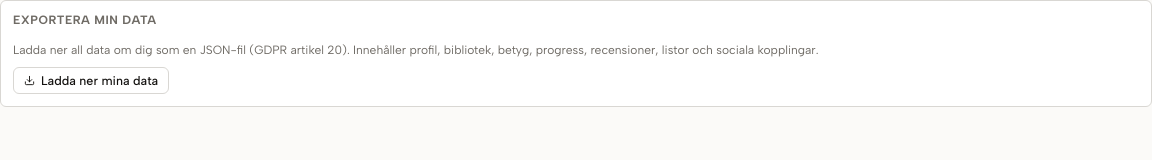
Scenario: DataExportSection — the confirmation after an export (BIN-1380) › the notice is still there after a toast would have gone
What coordinates should you click on to do the following:
click the button "Ladda ner mina data"
I would click on:
 (91, 80)
Its box is [13,67,169,94].
Wait 60000 ms
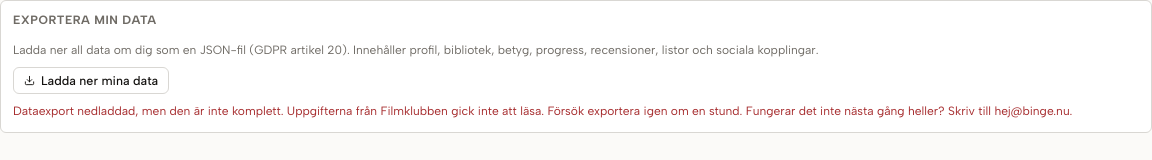
expect the message shows "Filmklubben": met, box [13,104,1072,118]
